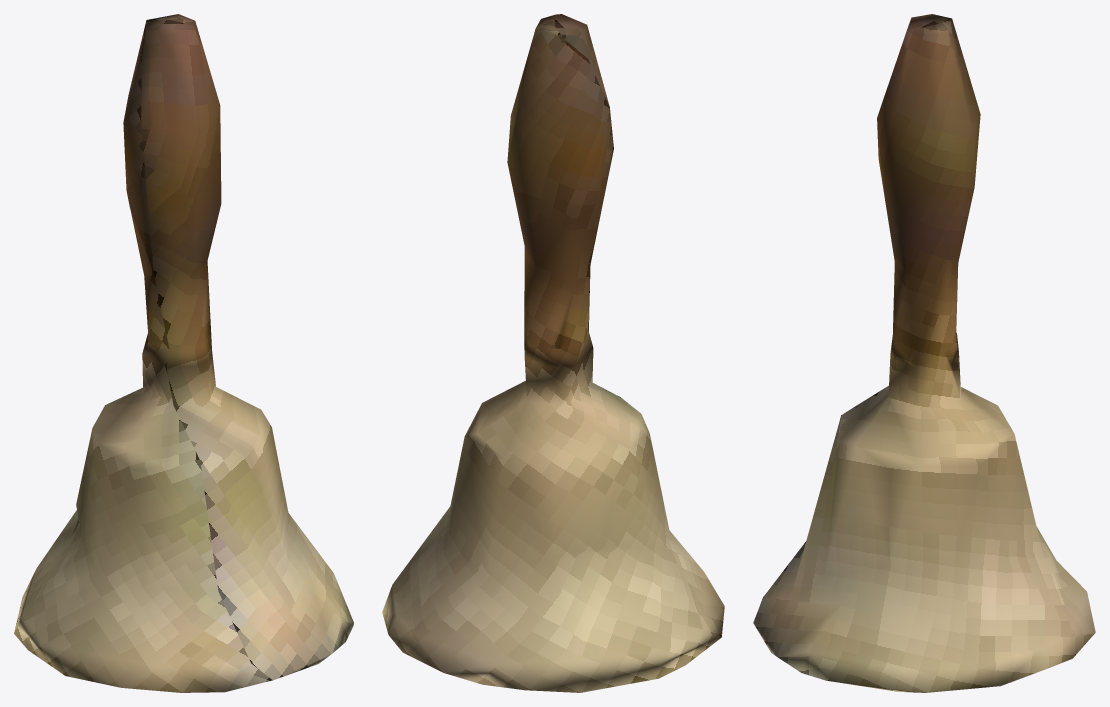
The model's file is Cole_Hardware_School_Bell_Solid_Brass_38-low.glb.
3 renders of one model, left to right at view 1: azimuth 30°, elevation 25°; view 2: azimuth 150°, elevation 25°; view 3: azimuth 270°, elevation 25°, orthographic.
Parts seen in each view (by area): view 1: Cole_Hardware_School_Bell_Solid_Brass_38; view 2: Cole_Hardware_School_Bell_Solid_Brass_38; view 3: Cole_Hardware_School_Bell_Solid_Brass_38.
Boxes of the visible parts, box(x1,y1,x2,y2) form: Cole_Hardware_School_Bell_Solid_Brass_38: box(14, 14, 353, 692); Cole_Hardware_School_Bell_Solid_Brass_38: box(382, 14, 724, 692); Cole_Hardware_School_Bell_Solid_Brass_38: box(753, 14, 1095, 692).
Size of the model in its own units: 0.0811 by 0.1591 by 0.0825.
1 material, 1 textured.
